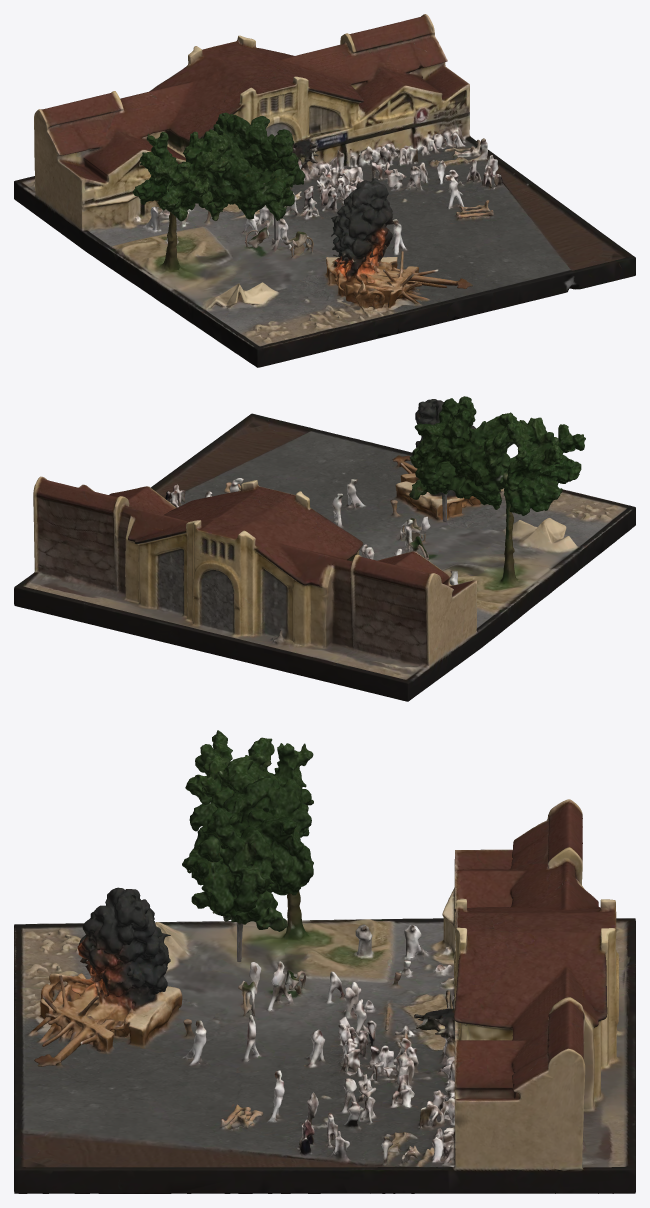
Rendered from Mít tinh Sài Gòn Pháp dánh.glb.
3 renders of one model, top to bottom at view 1: azimuth 30°, elevation 25°; view 2: azimuth 150°, elevation 25°; view 3: azimuth 270°, elevation 25°, orthographic. The views are drawn at different scales.
Size of the model in its own units: 1.9 by 0.7395 by 1.89.
Materials: 1 (1 with a texture image).
